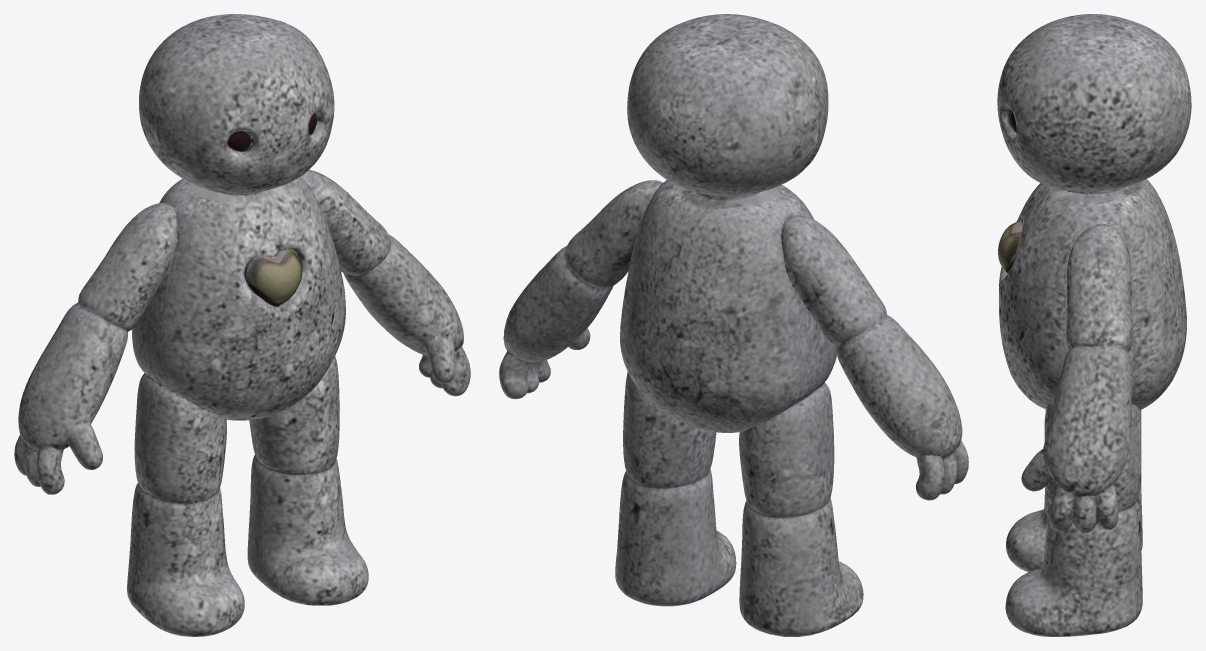
Rendered from hero_stone.glb.
3 views of the same model, side by side, from view 1: azimuth 30°, elevation 25°; view 2: azimuth 150°, elevation 25°; view 3: azimuth 270°, elevation 25° (orthographic). The views are drawn at different scales.
Visible parts, largest first — view 1: geometry_0; view 2: geometry_0; view 3: geometry_0.
Part boxes in pixels (x1=…): geometry_0: x1=14, y1=14, x2=470, y2=636; geometry_0: x1=499, y1=14, x2=968, y2=636; geometry_0: x1=997, y1=14, x2=1191, y2=636.
Size of the model in its own units: 0.1607 by 0.2 by 0.0626.
Materials: 1 (1 with a texture image).
